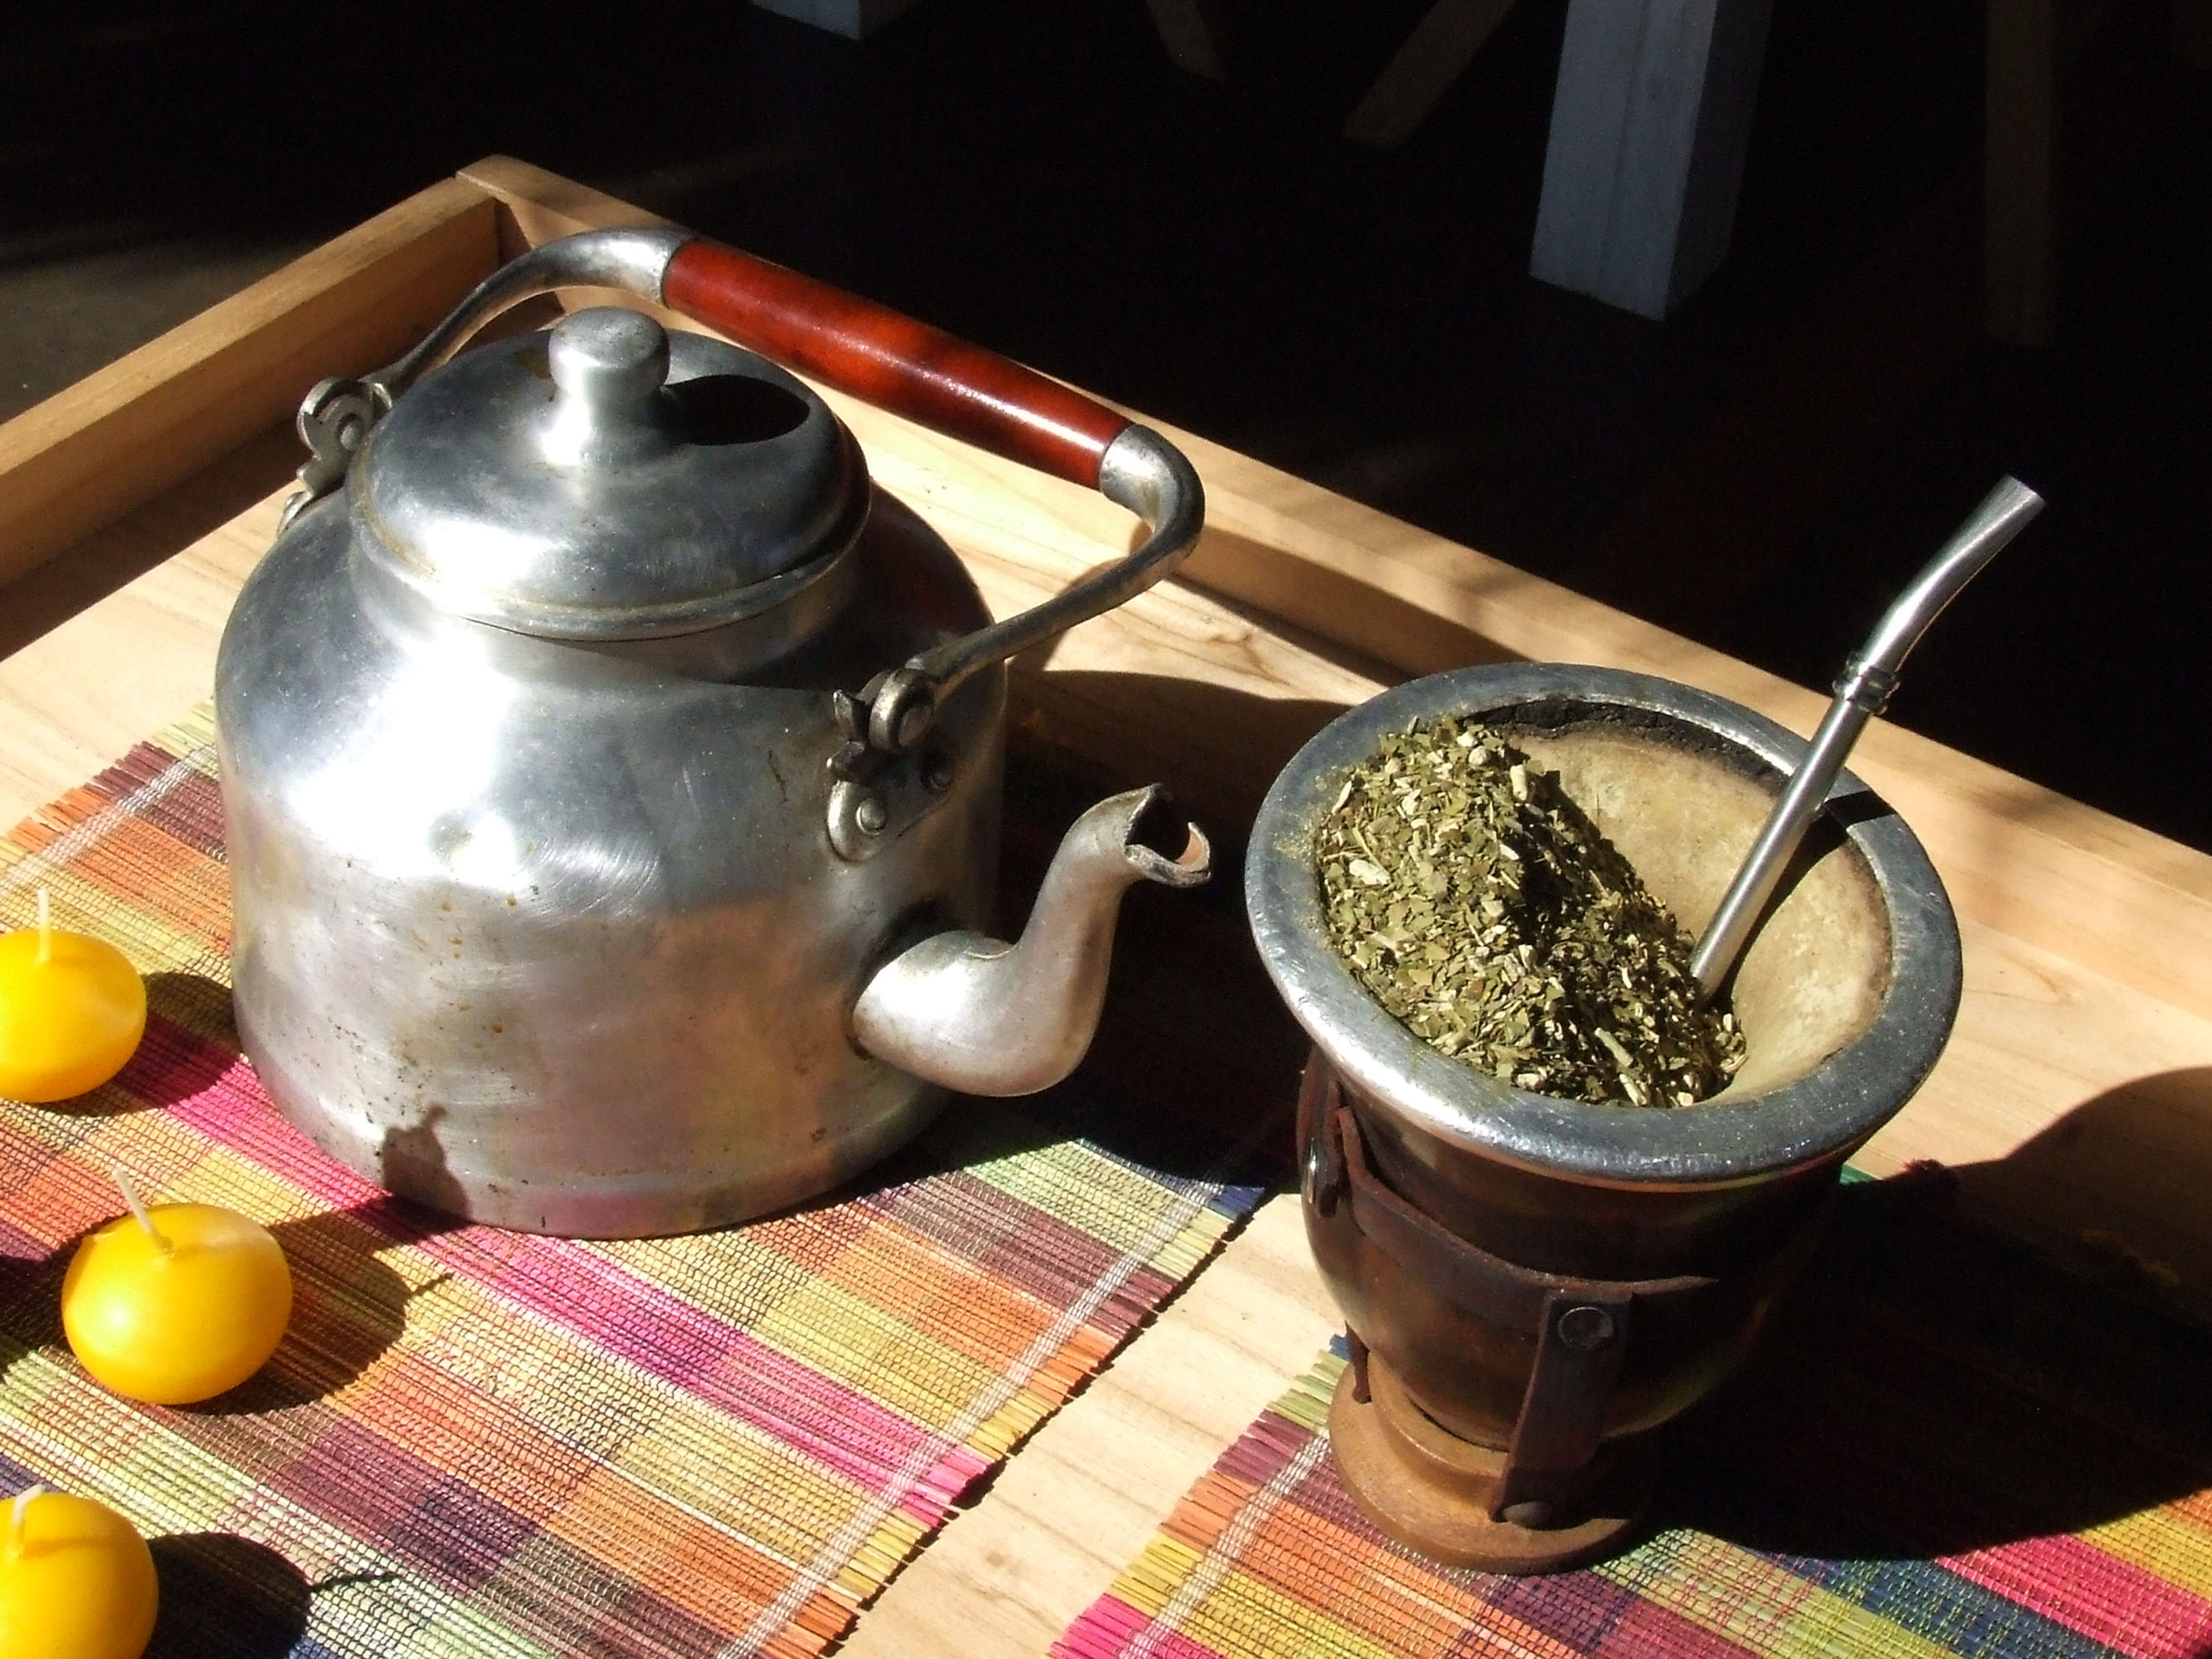guampa: (1235, 312, 2048, 1574)
